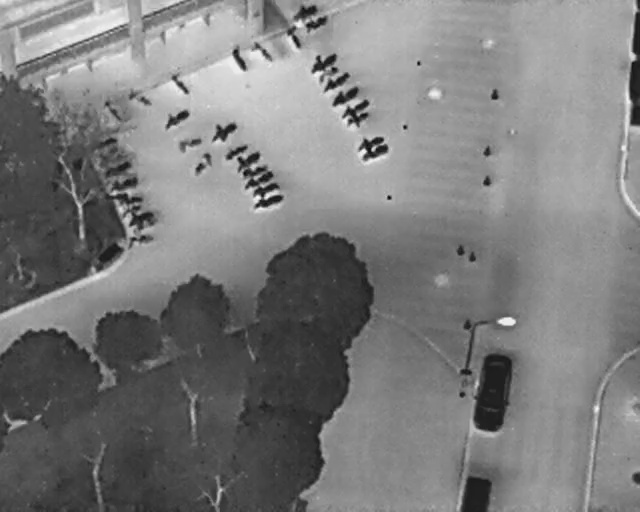Bicycle: (204, 113, 241, 148), (304, 45, 341, 77), (228, 143, 263, 175), (326, 82, 363, 110), (318, 67, 355, 95), (189, 149, 219, 182), (241, 167, 278, 192), (125, 207, 159, 234), (337, 96, 372, 121), (247, 38, 277, 67), (161, 104, 193, 131), (102, 156, 136, 181), (251, 189, 286, 213), (166, 69, 193, 99), (221, 139, 251, 166), (360, 140, 392, 165), (226, 43, 251, 75), (107, 172, 140, 196), (342, 107, 373, 132), (124, 85, 155, 110), (249, 178, 281, 202), (353, 130, 387, 152), (288, 0, 319, 24), (300, 11, 330, 35), (238, 160, 270, 182), (101, 96, 126, 124), (176, 132, 205, 156), (90, 131, 120, 154), (282, 23, 304, 52), (315, 62, 342, 83), (118, 201, 144, 221), (109, 191, 141, 205), (128, 232, 154, 246)
Car: (468, 349, 515, 437), (458, 475, 493, 510)
